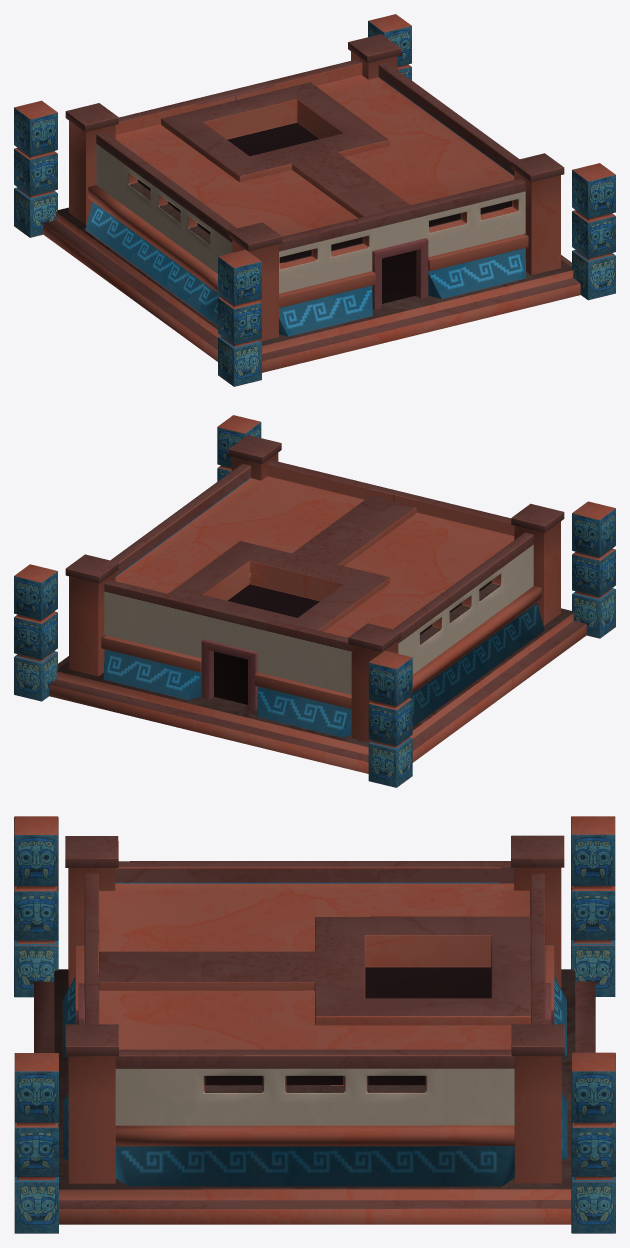
The model's file is CentroConstrucción.fbx.
3 views of the same model, one above another, from view 1: azimuth 30°, elevation 25°; view 2: azimuth 150°, elevation 25°; view 3: azimuth 270°, elevation 25° (orthographic). The views are drawn at different scales.
Parts seen in each view (by area): view 1: Plane.001; view 2: Plane.001; view 3: Plane.001.
Part boxes in pixels (x1,y1,x2,y2): Plane.001: (14, 14, 615, 386); Plane.001: (14, 415, 615, 787); Plane.001: (14, 816, 615, 1233).
Bounding box in the file's own units: 657 × 198 × 655.
2 materials, 1 textured.
